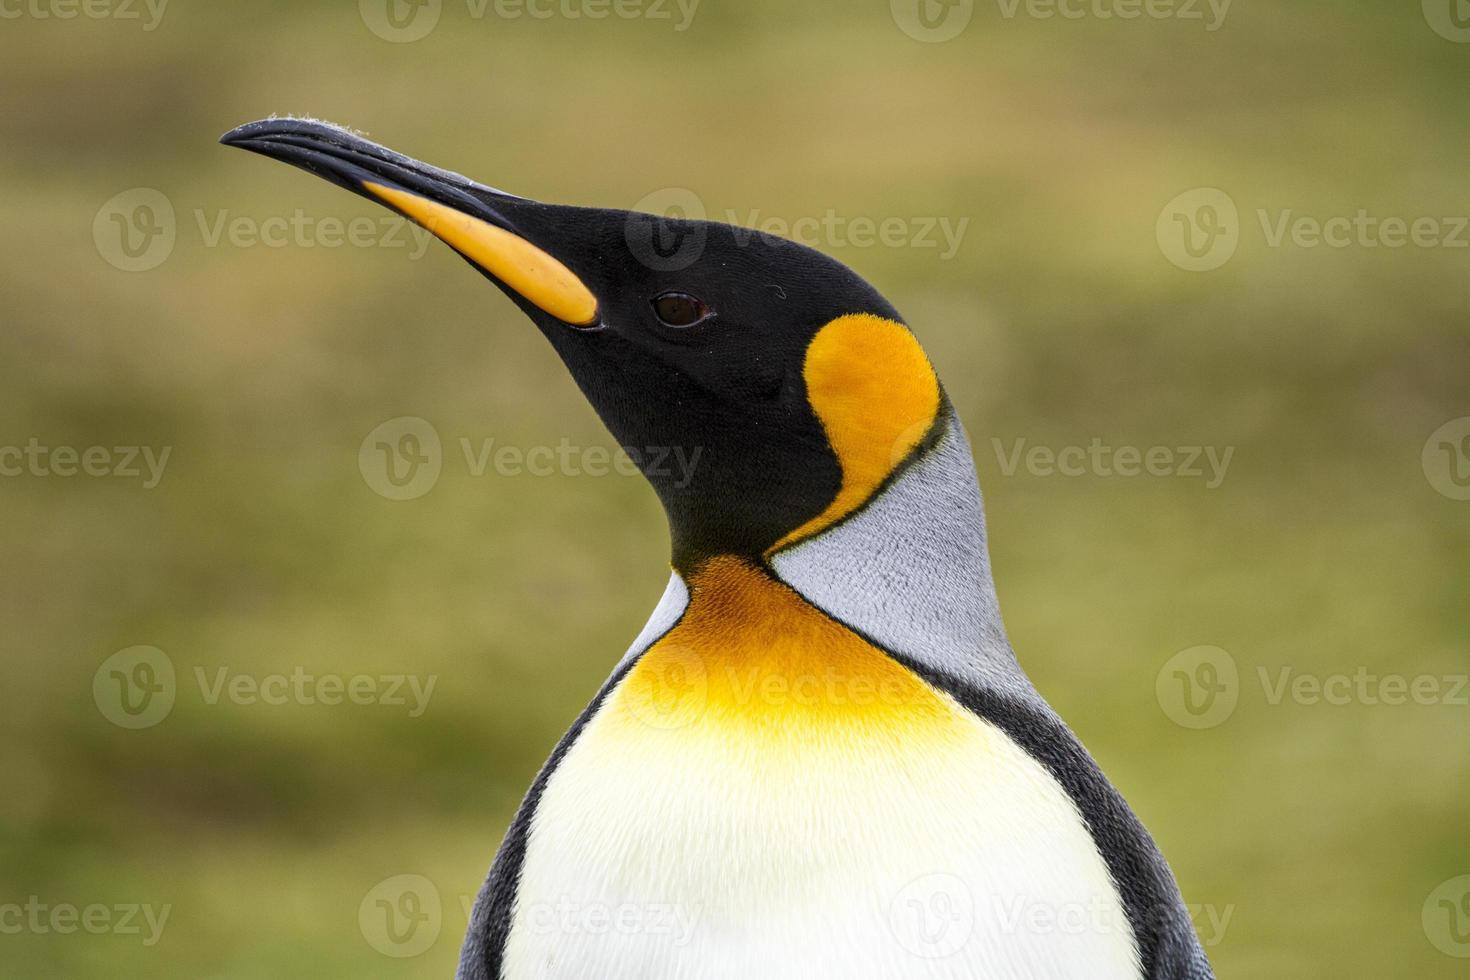king: (207, 79, 1308, 980)
